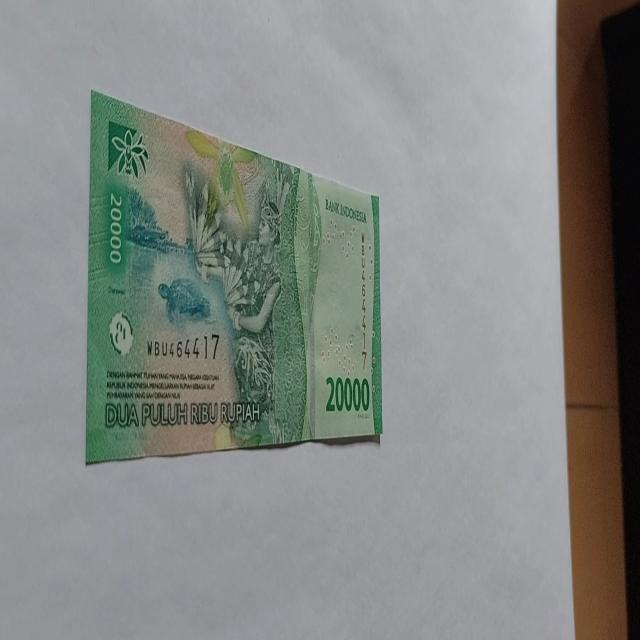dua puluh ribu rupiah: (85, 88, 383, 465)
